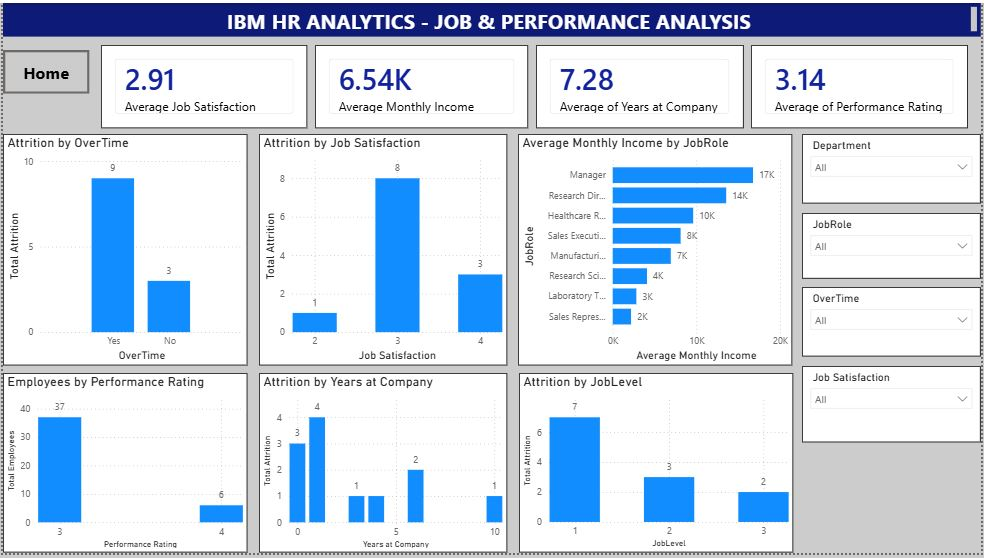

What the dashboard file says about the page in this screenshot:
{"tool":"powerbi","page":{"name":"IBM HR ANALYTICS - JOB & PERFORMANCE ANALYSIS","canvas":[1280,720],"ordinal":2},"visuals":[{"type":"textbox","box":[0,0,1279.8,44.1],"z":0},{"type":"cardVisual","fields":{"Data":["IBM HR Analytics Employee Attrition & Performance.Average Job Satisfaction"]},"box":[128.3,54.3,270.2,108.7],"z":1000},{"type":"cardVisual","fields":{"Data":["IBM HR Analytics Employee Attrition & Performance.Average Monthly Income"]},"box":[408.6,54.3,279.2,108.7],"z":2000},{"type":"cardVisual","fields":{"Data":["Avg(IBM HR Analytics Employee Attrition & Performance.YearsAtCompany)"]},"box":[697.9,54.3,271.7,108.7],"z":3000},{"type":"cardVisual","fields":{"Data":["Avg(IBM HR Analytics Employee Attrition & Performance.Performance Rating)"]},"box":[979.6,54.3,283.8,108.7],"z":4000},{"type":"clusteredColumnChart","title":"Attrition by OverTime","fields":{"Category":["IBM HR Analytics Employee Attrition & Performance.OverTime"],"Y":["IBM HR Analytics Employee Attrition & Performance.Total Attrition"]},"box":[0,172.1,320,303.4],"z":5000},{"type":"clusteredColumnChart","title":"Attrition by Job Satisfaction","fields":{"Y":["IBM HR Analytics Employee Attrition & Performance.Total Attrition"],"Category":["IBM HR Analytics Employee Attrition & Performance.Job Satisfaction"]},"box":[335.1,172.1,324.5,303.4],"z":6000},{"type":"clusteredBarChart","fields":{"Category":["IBM HR Analytics Employee Attrition & Performance.JobRole"],"Y":["IBM HR Analytics Employee Attrition & Performance.Average Monthly Income"]},"box":[674.7,172.1,359.2,303.4],"z":7000},{"type":"clusteredColumnChart","title":"Employees by Performance Rating","fields":{"Y":["IBM HR Analytics Employee Attrition & Performance.Total Employees"],"Category":["IBM HR Analytics Employee Attrition & Performance.Performance Rating"]},"box":[0,484.5,320,235.5],"z":8000},{"type":"clusteredColumnChart","title":"Attrition by Years at Company","fields":{"Category":["IBM HR Analytics Employee Attrition & Performance.Years at Company"],"Y":["IBM HR Analytics Employee Attrition & Performance.Total Attrition"]},"box":[335.2,484.5,324.5,235.5],"z":9000},{"type":"clusteredColumnChart","title":"Attrition by JobLevel","fields":{"Category":["IBM HR Analytics Employee Attrition & Performance.JobLevel"],"Y":["IBM HR Analytics Employee Attrition & Performance.Total Attrition"]},"box":[675,485,359,235],"z":10000},{"type":"slicer","fields":{"Values":["IBM HR Analytics Employee Attrition & Performance.Department"]},"box":[1046,172.1,234,90.6],"z":11000},{"type":"slicer","fields":{"Values":["IBM HR Analytics Employee Attrition & Performance.JobRole"]},"box":[1046,274.7,234,86],"z":12000},{"type":"slicer","fields":{"Values":["IBM HR Analytics Employee Attrition & Performance.OverTime"]},"box":[1046,371.3,234,90.6],"z":13000},{"type":"slicer","fields":{"Values":["IBM HR Analytics Employee Attrition & Performance.Job Satisfaction"]},"box":[1046,475.5,234,99.6],"z":14000},{"type":"actionButton","box":[0,61.9,113.2,57.4],"z":15000}]}

Visuals, with their boxes in screenshot pixels (x1, y1, x2, y2), scaled from the page's 1280x720 canvas onto the 984x558 screenshot:
textbox: Rect(0, 0, 983, 34)
cardVisual - IBM HR Analytics Employee Attrition & Performance.Average Job Satisfaction: Rect(99, 42, 306, 126)
cardVisual - IBM HR Analytics Employee Attrition & Performance.Average Monthly Income: Rect(314, 42, 529, 126)
cardVisual - Avg(IBM HR Analytics Employee Attrition & Performance.YearsAtCompany): Rect(537, 42, 745, 126)
cardVisual - Avg(IBM HR Analytics Employee Attrition & Performance.Performance Rating): Rect(753, 42, 971, 126)
"Attrition by OverTime" clusteredColumnChart: Rect(0, 133, 246, 369)
"Attrition by Job Satisfaction" clusteredColumnChart: Rect(258, 133, 507, 369)
clusteredBarChart - IBM HR Analytics Employee Attrition & Performance.JobRole x IBM HR Analytics Employee Attrition & Performance.Average Monthly Income: Rect(519, 133, 795, 369)
"Employees by Performance Rating" clusteredColumnChart: Rect(0, 375, 246, 557)
"Attrition by Years at Company" clusteredColumnChart: Rect(258, 375, 507, 557)
"Attrition by JobLevel" clusteredColumnChart: Rect(519, 376, 795, 557)
slicer - IBM HR Analytics Employee Attrition & Performance.Department: Rect(804, 133, 983, 204)
slicer - IBM HR Analytics Employee Attrition & Performance.JobRole: Rect(804, 213, 983, 280)
slicer - IBM HR Analytics Employee Attrition & Performance.OverTime: Rect(804, 288, 983, 358)
slicer - IBM HR Analytics Employee Attrition & Performance.Job Satisfaction: Rect(804, 369, 983, 446)
actionButton: Rect(0, 48, 87, 92)
